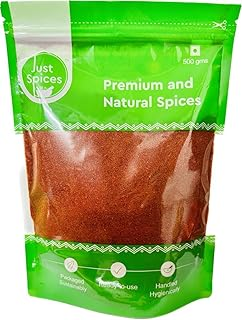Chilli Powder: (1, 1, 238, 316)
